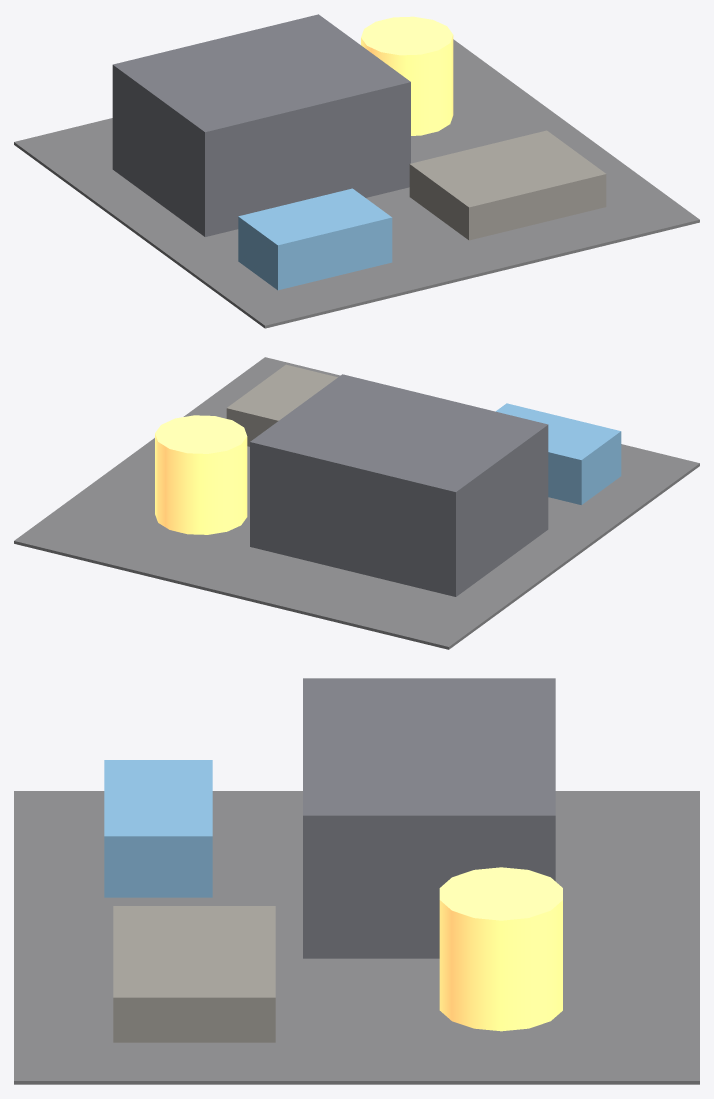
The model's file is regolith_works.glb.
3 renders of one model, top to bottom at view 1: azimuth 30°, elevation 25°; view 2: azimuth 150°, elevation 25°; view 3: azimuth 270°, elevation 25°, orthographic. The views are drawn at different scales.
Visible parts, largest first — view 1: Kiln, Pad, Dust, GlassStack, Furnace; view 2: Kiln, Pad, Furnace, GlassStack, Dust; view 3: Pad, Kiln, Dust, Furnace, GlassStack.
Part boxes in pixels (box(x1,y1,x2,y2)): Kiln: box(112, 14, 410, 236); Pad: box(14, 39, 699, 328); Dust: box(409, 130, 606, 240); GlassStack: box(238, 188, 392, 290); Furnace: box(361, 16, 453, 135); Kiln: box(250, 374, 548, 596); Pad: box(14, 357, 699, 649); Furnace: box(155, 415, 247, 534); GlassStack: box(495, 403, 621, 504); Dust: box(226, 364, 337, 446); Pad: box(14, 791, 699, 1084); Kiln: box(303, 678, 555, 958); Dust: box(113, 906, 275, 1042); Furnace: box(439, 867, 562, 1031); GlassStack: box(104, 760, 212, 897).
Size of the model in its own units: 3.8 by 0.9 by 3.8.
